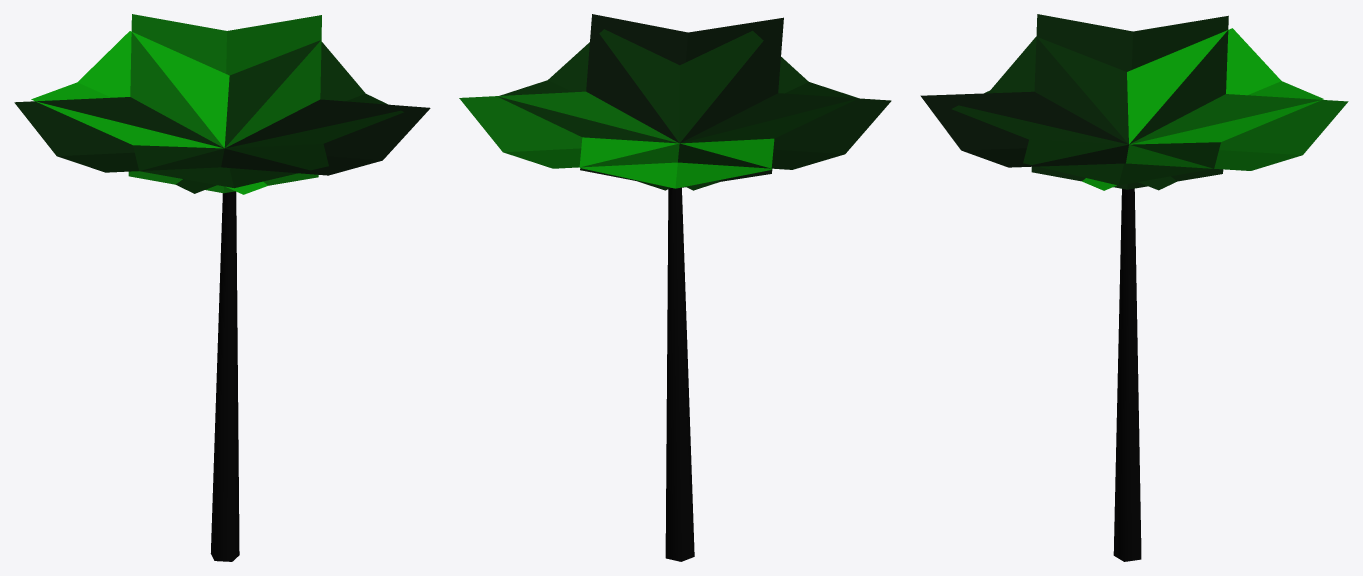
3 renders of one model, left to right at view 1: azimuth 30°, elevation 25°; view 2: azimuth 150°, elevation 25°; view 3: azimuth 270°, elevation 25°, orthographic.
Parts seen in each view (by area): view 1: IL3DN_Plant_Flower_01_LOD0; view 2: IL3DN_Plant_Flower_01_LOD0; view 3: IL3DN_Plant_Flower_01_LOD0.
Part boxes in pixels (left/top/right/bottom): IL3DN_Plant_Flower_01_LOD0: left=14, top=14, right=430, bottom=561; IL3DN_Plant_Flower_01_LOD0: left=459, top=14, right=891, bottom=561; IL3DN_Plant_Flower_01_LOD0: left=920, top=14, right=1348, bottom=561.
Size of what is drawn, in the model's own units: 61.56 by 83.35 by 69.98.
